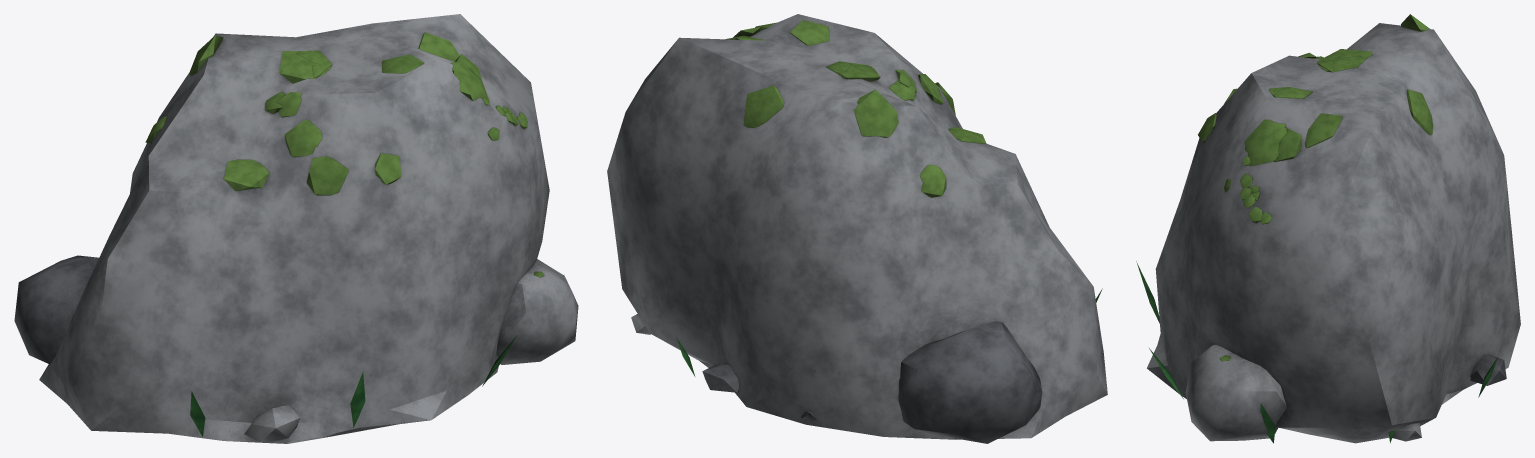
Rendered from roca_grande.fbx.
3 views of the same model, side by side, from view 1: azimuth 30°, elevation 25°; view 2: azimuth 150°, elevation 25°; view 3: azimuth 270°, elevation 25° (orthographic). The views are drawn at different scales.
Parts seen in each view (by area): view 1: roca_grande; view 2: roca_grande; view 3: roca_grande.
Part boxes in pixels (left/top/right/bottom): roca_grande: left=14, top=14, right=578, bottom=443; roca_grande: left=607, top=14, right=1107, bottom=443; roca_grande: left=1136, top=14, right=1520, bottom=443.
Bounding box in the file's own units: 4.47 × 2.75 × 3.07.
Materials: 1 (1 with a texture image).
